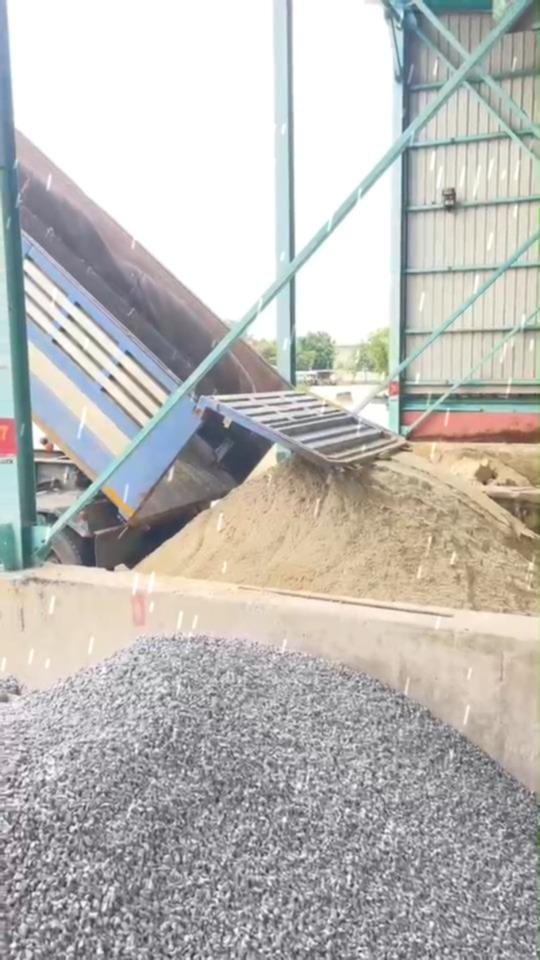gravel: (0, 637, 536, 959)
sand: (139, 454, 537, 613), (430, 449, 529, 487)
